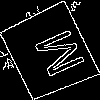M: (24, 26, 86, 84)
